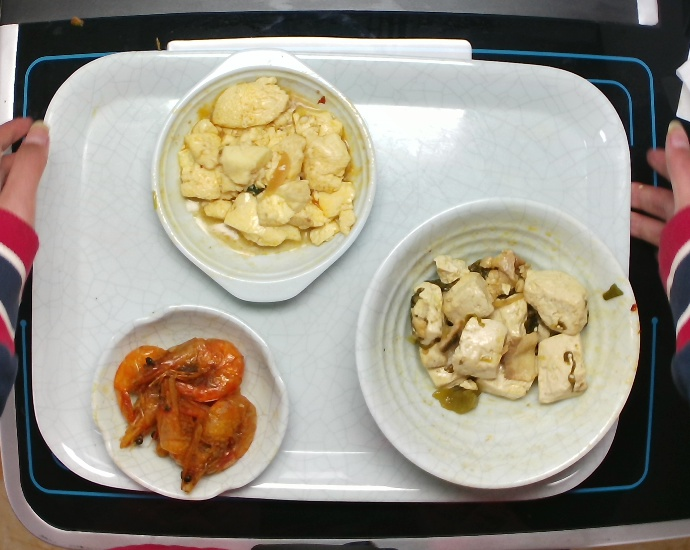JYsf-Ao_Yuan_Wan: (89, 301, 293, 502)
JYsf-Shuang_Er_Pan: (148, 45, 380, 305)
JYsf-Xiao_Tang_Wan: (352, 194, 643, 492)
